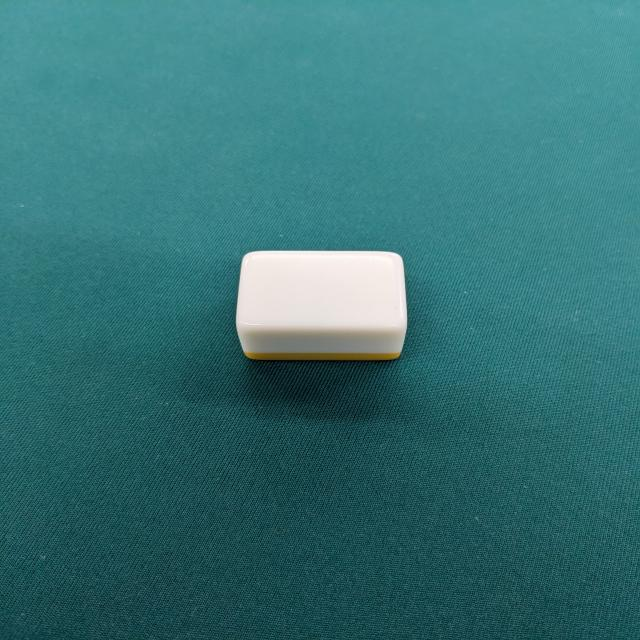haku: (235, 251, 408, 365)
